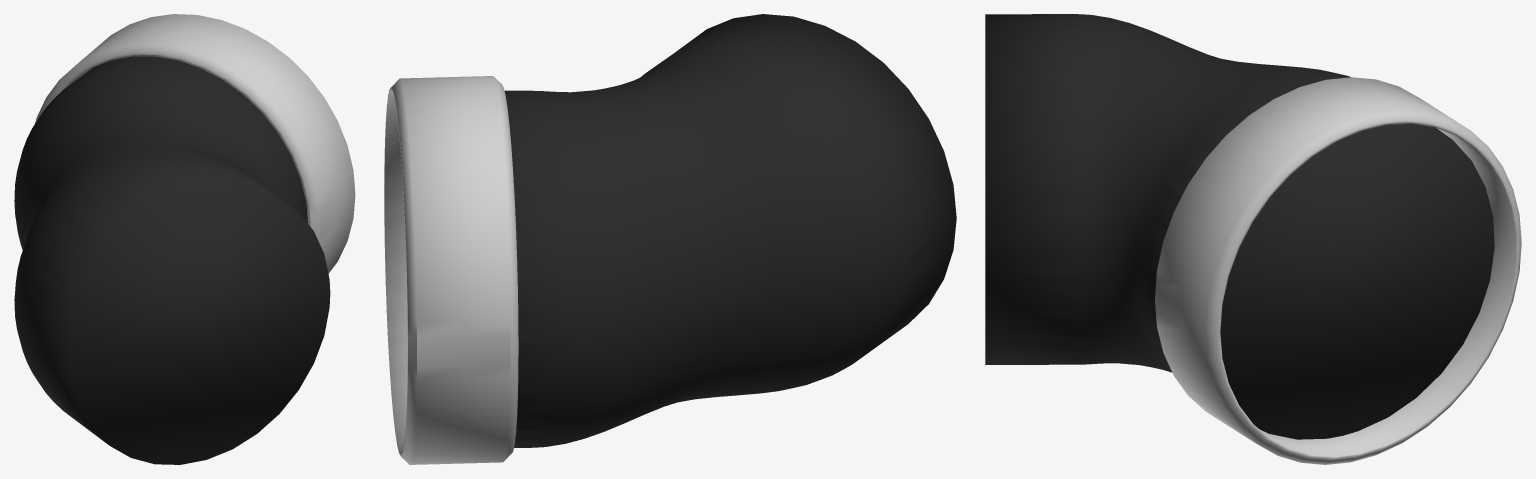
The model's file is mico_link_5.dae.
3 views of the same model, side by side, from view 1: azimuth 30°, elevation 25°; view 2: azimuth 150°, elevation 25°; view 3: azimuth 270°, elevation 25° (orthographic). The views are drawn at different scales.
Parts seen in each view (by area): view 1: Mico_very_simplified_-_Link_-_Wrist_Mico-1, Wrist_1_Ring_Link; view 2: Mico_very_simplified_-_Link_-_Wrist_Mico-1, Wrist_1_Ring_Link; view 3: Mico_very_simplified_-_Link_-_Wrist_Mico-1, Wrist_1_Ring_Link.
Boxes of the visible parts, x1,y1,x2,y2 form: Mico_very_simplified_-_Link_-_Wrist_Mico-1: [14, 56, 330, 464]; Wrist_1_Ring_Link: [35, 14, 355, 273]; Mico_very_simplified_-_Link_-_Wrist_Mico-1: [504, 14, 956, 447]; Wrist_1_Ring_Link: [384, 76, 518, 464]; Mico_very_simplified_-_Link_-_Wrist_Mico-1: [985, 14, 1494, 439]; Wrist_1_Ring_Link: [1155, 77, 1521, 464].
Size of the model in its own units: 0.0923 by 0.0679 by 0.0962.
Materials: 1 (1 with a texture image).
